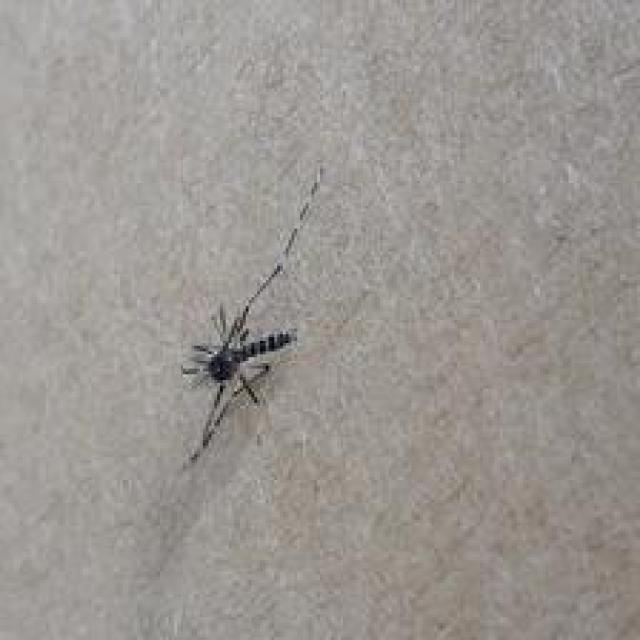Aedes albopictus: (177, 164, 323, 464)
